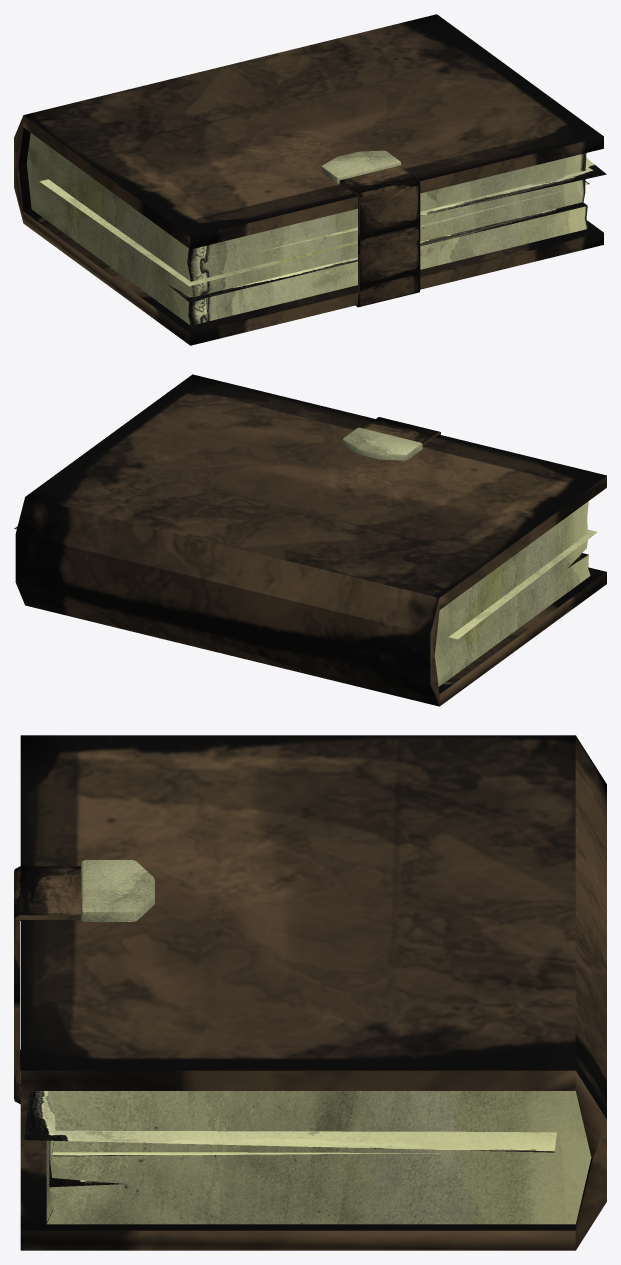
Rendered from Book.fbx.
3 renders of one model, top to bottom at view 1: azimuth 30°, elevation 25°; view 2: azimuth 150°, elevation 25°; view 3: azimuth 270°, elevation 25°, orthographic. The views are drawn at different scales.
Visible parts, largest first — view 1: Book; view 2: Book; view 3: Book.
Part boxes in pixels (x1,y1,x2,y2): Book: (14, 14, 606, 345); Book: (14, 374, 606, 706); Book: (14, 735, 606, 1250).
Bounding box in the file's own units: 1.55 × 0.4009 × 1.11.
